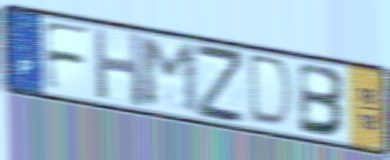B: (297, 60, 349, 140)
D: (247, 51, 297, 132)
F: (40, 18, 94, 94)
H: (90, 25, 146, 111)
M: (136, 36, 204, 119)
Z: (193, 40, 249, 128)
